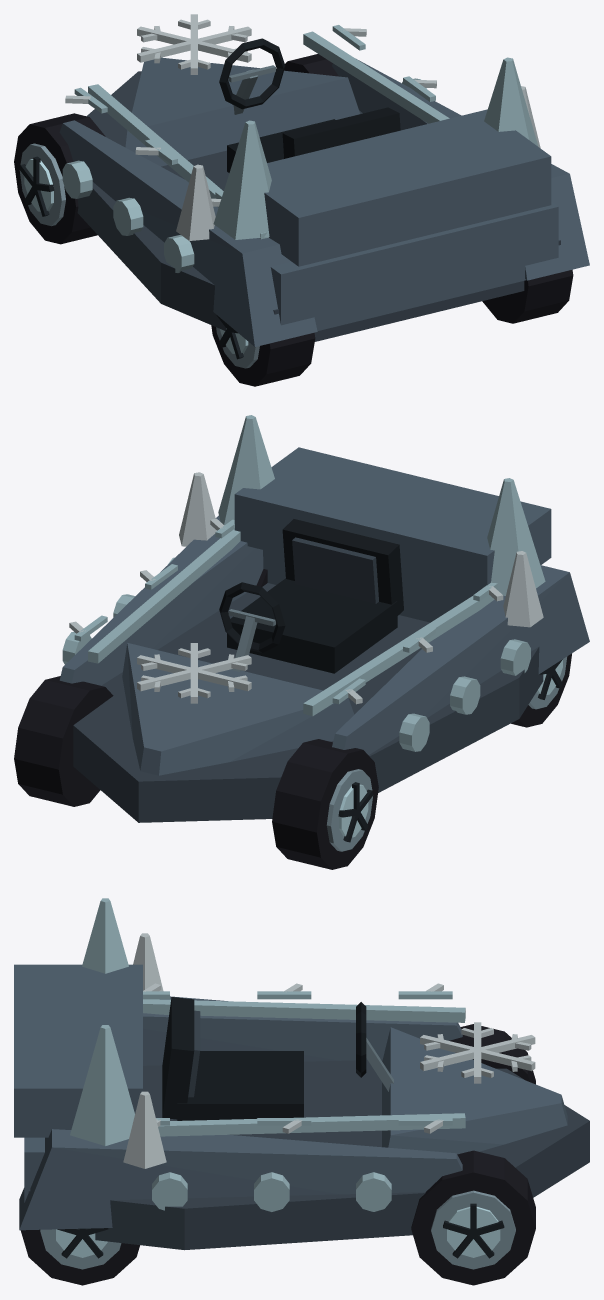
File: kart.glb
3 views of the same model, one above another, from view 1: azimuth 30°, elevation 25°; view 2: azimuth 150°, elevation 25°; view 3: azimuth 270°, elevation 25° (orthographic).
Parts seen in each view (by area): view 1: identity-ship-ship-pointed-bow-and-raised-stern, identity-ship-motif-crystals, wheel-front-left, identity-ship-driver-cockpit, wheel-rear-left, identity-ship-motif-snow, wheel-rear-right, identity-ship-motif-runes, wheel-front-right; view 2: identity-ship-ship-pointed-bow-and-raised-stern, identity-ship-driver-cockpit, wheel-front-left, identity-ship-motif-crystals, wheel-front-right, identity-ship-motif-snow, identity-ship-motif-runes, wheel-rear-left; view 3: identity-ship-ship-pointed-bow-and-raised-stern, identity-ship-driver-cockpit, wheel-front-right, identity-ship-motif-crystals, wheel-rear-right, identity-ship-motif-snow, identity-ship-motif-runes, wheel-front-left.
Part boxes in pixels (x1=…): identity-ship-ship-pointed-bow-and-raised-stern: x1=59, y1=31, x2=589, y2=346; identity-ship-motif-crystals: x1=176, y1=57, x2=540, y2=240; wheel-front-left: x1=14, y1=113, x2=105, y2=244; identity-ship-driver-cockpit: x1=219, y1=38, x2=400, y2=172; wheel-rear-left: x1=211, y1=315, x2=315, y2=386; identity-ship-motif-snow: x1=137, y1=14, x2=251, y2=74; wheel-rear-right: x1=482, y1=269, x2=573, y2=323; identity-ship-motif-runes: x1=65, y1=25, x2=436, y2=206; wheel-front-right: x1=284, y1=54, x2=338, y2=76; identity-ship-ship-pointed-bow-and-raised-stern: x1=59, y1=447, x2=589, y2=822; identity-ship-driver-cockpit: x1=219, y1=519, x2=403, y2=673; wheel-front-left: x1=272, y1=739, x2=378, y2=869; identity-ship-motif-crystals: x1=179, y1=415, x2=545, y2=627; wheel-front-right: x1=14, y1=676, x2=113, y2=806; identity-ship-motif-snow: x1=137, y1=643, x2=251, y2=703; identity-ship-motif-runes: x1=69, y1=518, x2=503, y2=704; wheel-rear-left: x1=511, y1=653, x2=571, y2=727; identity-ship-ship-pointed-bow-and-raised-stern: x1=14, y1=964, x2=589, y2=1250; identity-ship-driver-cockpit: x1=162, y1=997, x2=393, y2=1120; wheel-front-right: x1=411, y1=1150, x2=535, y2=1285; identity-ship-motif-crystals: x1=70, y1=898, x2=166, y2=1168; wheel-rear-right: x1=20, y1=1228, x2=139, y2=1285; identity-ship-motif-snow: x1=420, y1=1022, x2=535, y2=1083; identity-ship-motif-runes: x1=143, y1=983, x2=452, y2=1133; wheel-front-left: x1=449, y1=1024, x2=535, y2=1084.
Size of the model in its own units: 2.01 by 1.32 by 2.77.
